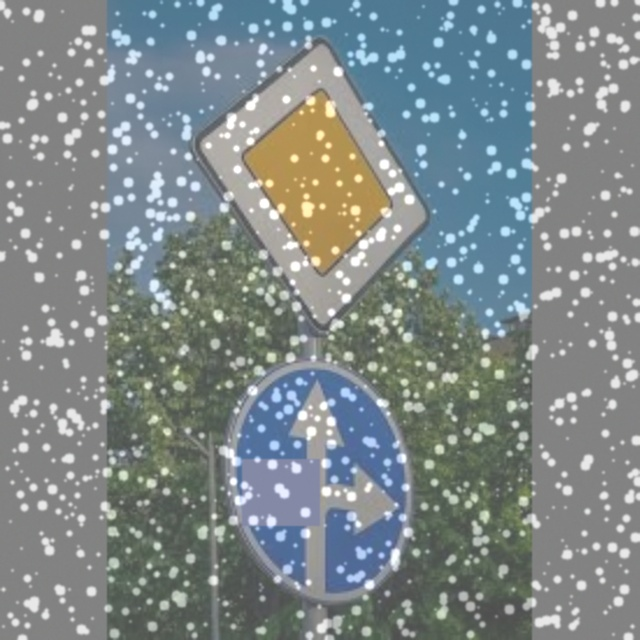Compulsory_Ahead_or_Turn_Right: (229, 356, 414, 601)
